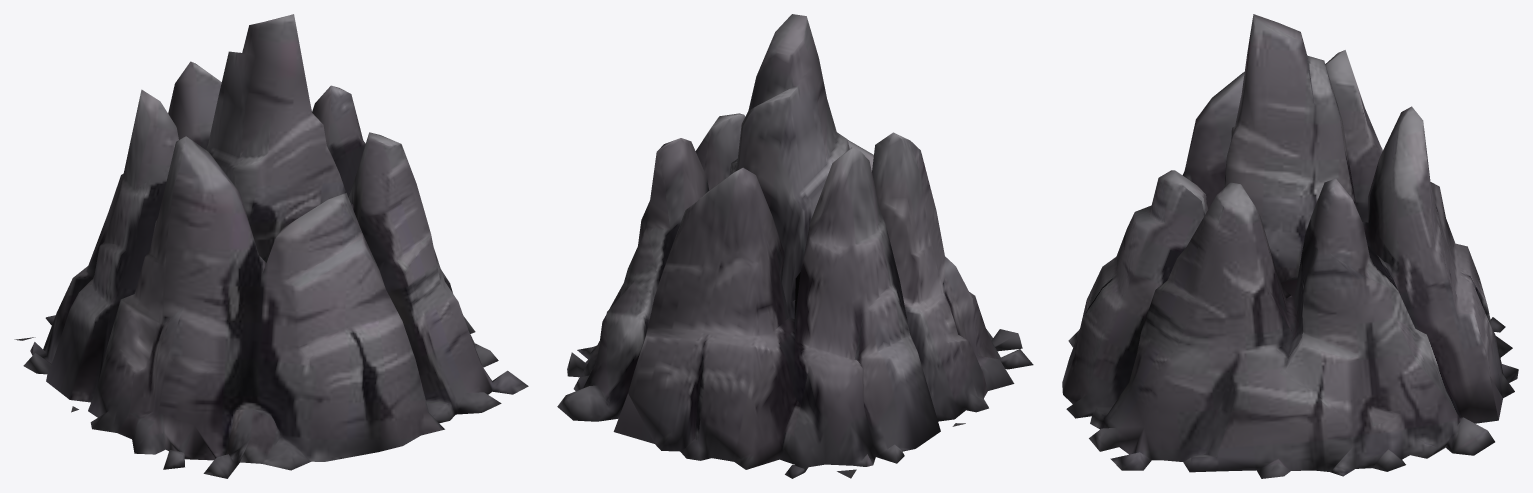
Rendered from prop_rock_peak_a.glb.
3 renders of one model, left to right at view 1: azimuth 30°, elevation 25°; view 2: azimuth 150°, elevation 25°; view 3: azimuth 270°, elevation 25°, orthographic. The views are drawn at different scales.
Parts seen in each view (by area): view 1: Mesh_0; view 2: Mesh_0; view 3: Mesh_0.
Part boxes in pixels (x1,y1,x2,y2): Mesh_0: (14, 14, 528, 478); Mesh_0: (557, 14, 1033, 478); Mesh_0: (1062, 14, 1518, 478).
Bounding box in the file's own units: 1.95 × 1.76 × 1.98.
1 material, 1 textured.
